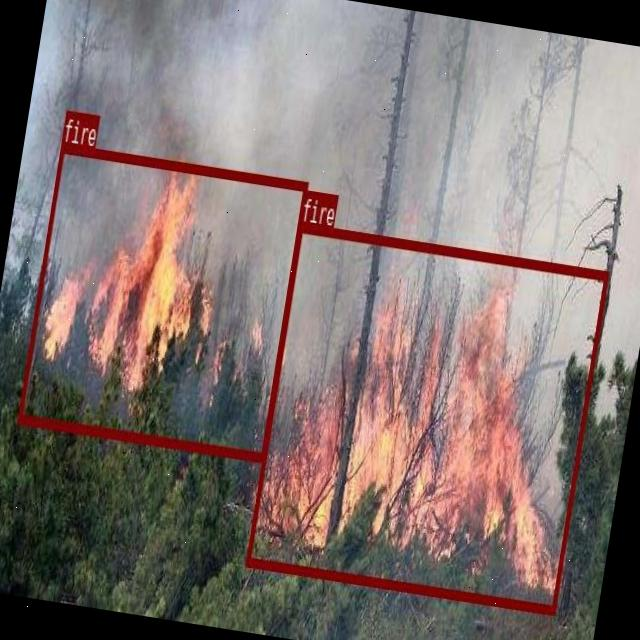fire: (246, 222, 609, 612), (18, 143, 308, 460)
